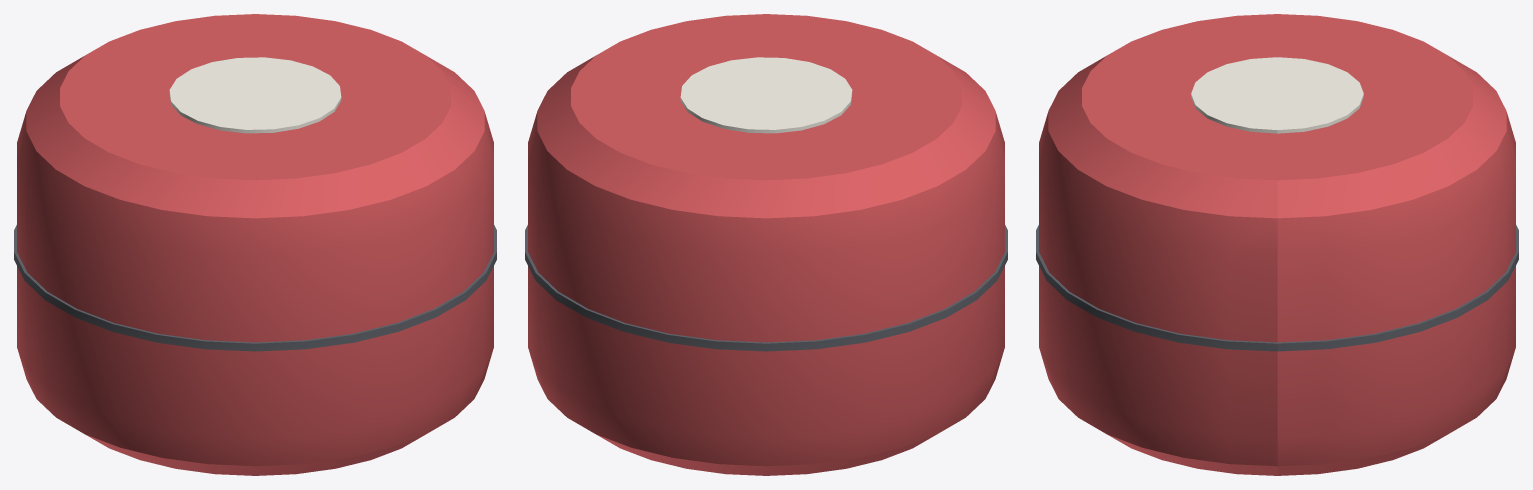
The model's file is fresh-produce-and-groceries-cheese-wheel-cd085b3a__24398.glb.
3 views of the same model, side by side, from view 1: azimuth 30°, elevation 25°; view 2: azimuth 150°, elevation 25°; view 3: azimuth 270°, elevation 25° (orthographic).
Parts seen in each view (by area): view 1: cheese-wheel; view 2: cheese-wheel; view 3: cheese-wheel.
Boxes of the visible parts, x1=… form: cheese-wheel: x1=14, y1=14, x2=496, y2=475; cheese-wheel: x1=525, y1=14, x2=1007, y2=475; cheese-wheel: x1=1036, y1=14, x2=1518, y2=475.
Bounding box in the file's own units: 0.2024 × 0.1376 × 0.2013.
